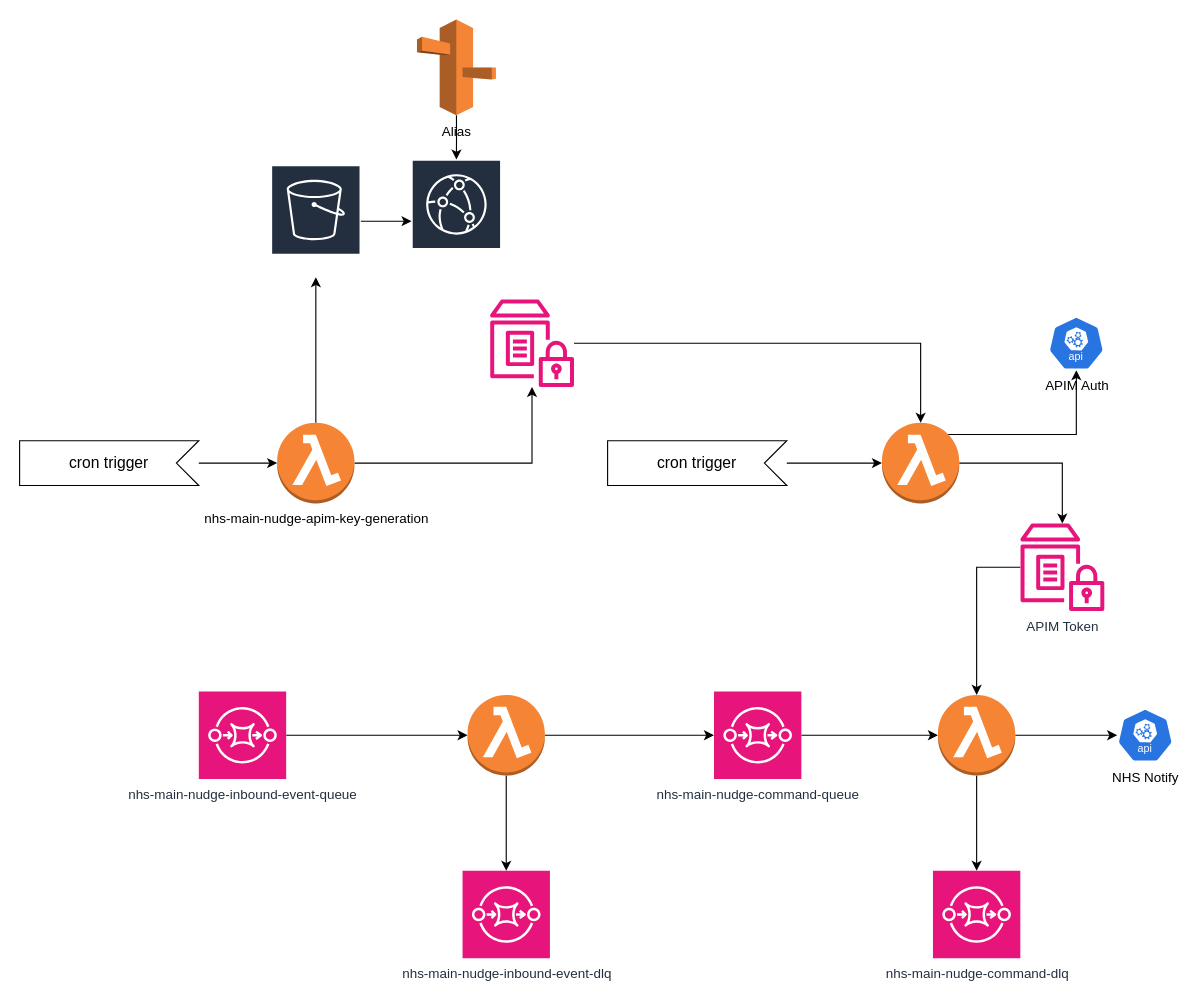
Some shapes in this 1197 by 1001 pixel diagram are drawn without their labels. Here are the shapes that lost their labels. From the top down, the box of each, then its label:
(270, 164, 361, 277): Public Key
(410, 158, 501, 283): Amazon Cloudfront
(489, 299, 573, 386): Private Key
(881, 422, 959, 503): nhs-main-nudge-apim-refresh-token
(466, 694, 545, 776): nhs-main-nudge-event-command-transformer
(937, 694, 1015, 776): nhs-main-nudge-command-processor
